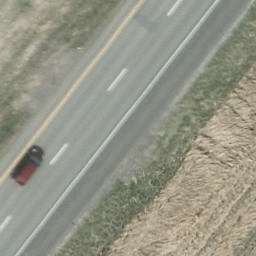car: (12, 145, 46, 188)
